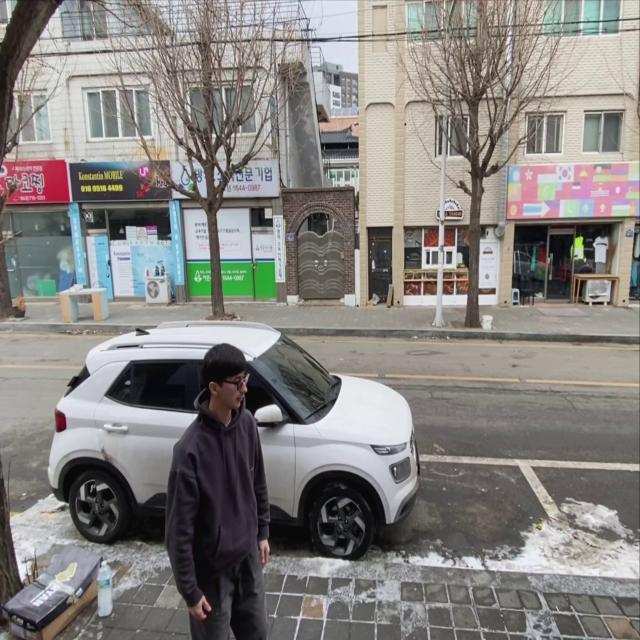bare_hand: (187, 596, 213, 622), (255, 538, 273, 570)
